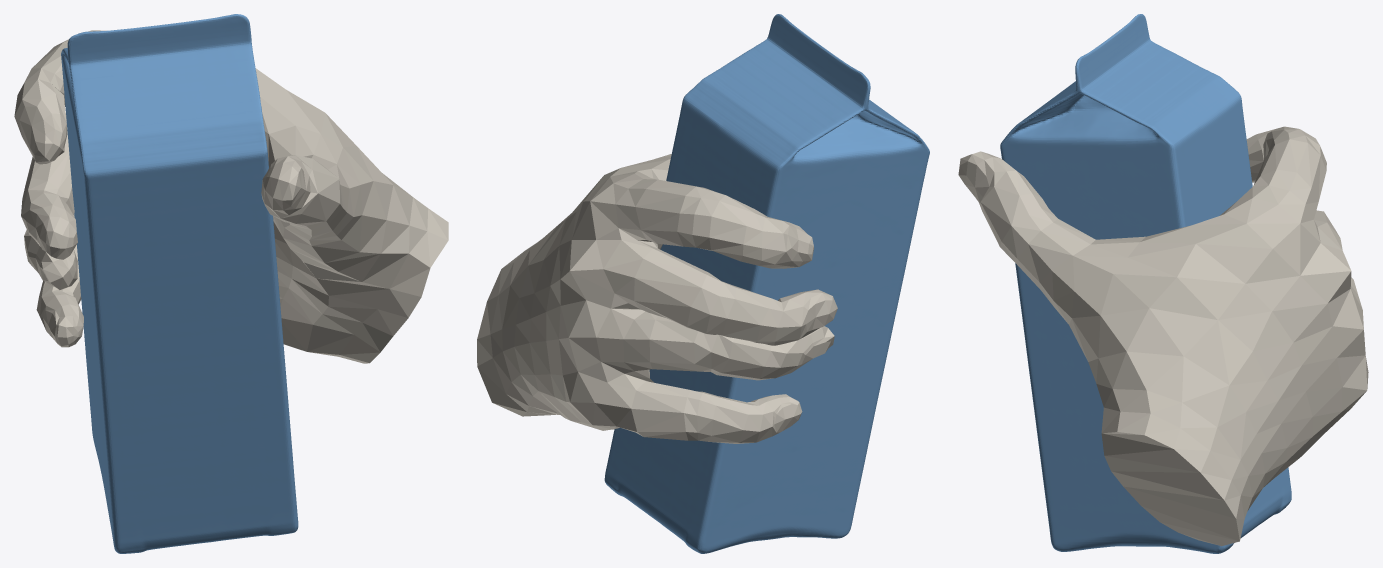
3 views of the same model, side by side, from view 1: azimuth 30°, elevation 25°; view 2: azimuth 150°, elevation 25°; view 3: azimuth 270°, elevation 25° (orthographic). The views are drawn at different scales.
Parts seen in each view (by area): view 1: milk_object, milk_hand; view 2: milk_object, milk_hand; view 3: milk_hand, milk_object.
Boxes of the visible parts, left/top/right/bottom form: milk_object: left=61, top=14, right=298, bottom=553; milk_hand: left=14, top=30, right=448, bottom=363; milk_object: left=604, top=14, right=929, bottom=553; milk_hand: left=477, top=154, right=837, bottom=443; milk_hand: left=958, top=126, right=1368, bottom=546; milk_object: left=1000, top=14, right=1291, bottom=553.
Size of the model in its own units: 0.1479 by 0.182 by 0.1389.
